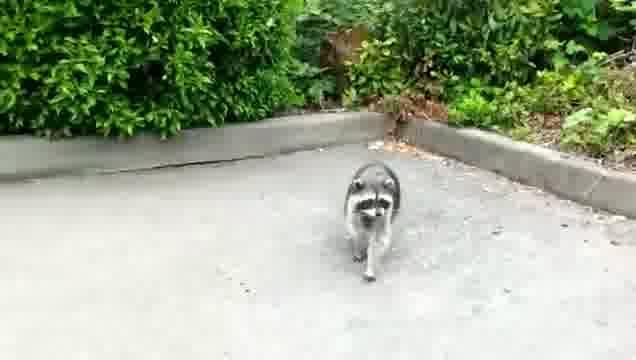raccoon: (343, 163, 402, 282)
